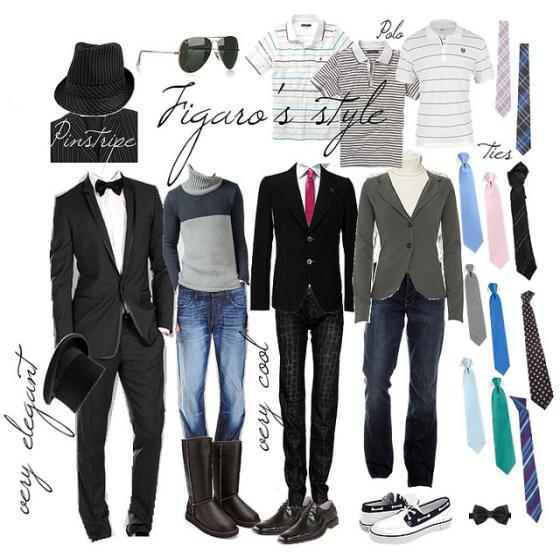tie: (519, 291, 554, 412), (510, 395, 542, 523), (507, 161, 536, 281), (459, 153, 484, 253), (485, 172, 510, 269), (491, 378, 516, 475), (462, 358, 487, 454), (487, 282, 511, 377), (494, 19, 515, 116), (464, 265, 487, 344), (515, 44, 530, 157), (469, 504, 511, 525), (305, 169, 315, 227), (96, 179, 123, 196)
